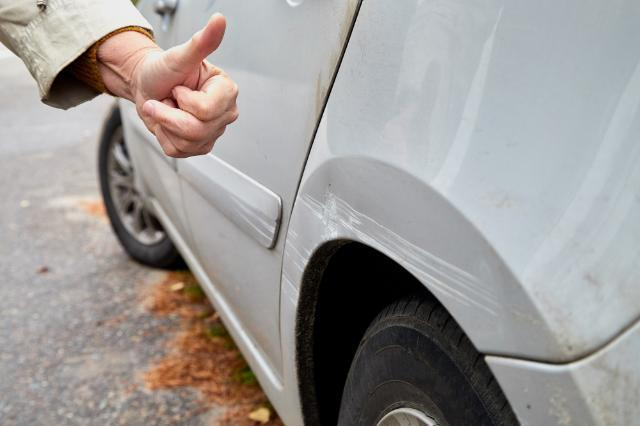scratch: (277, 191, 502, 318), (230, 194, 280, 245)
